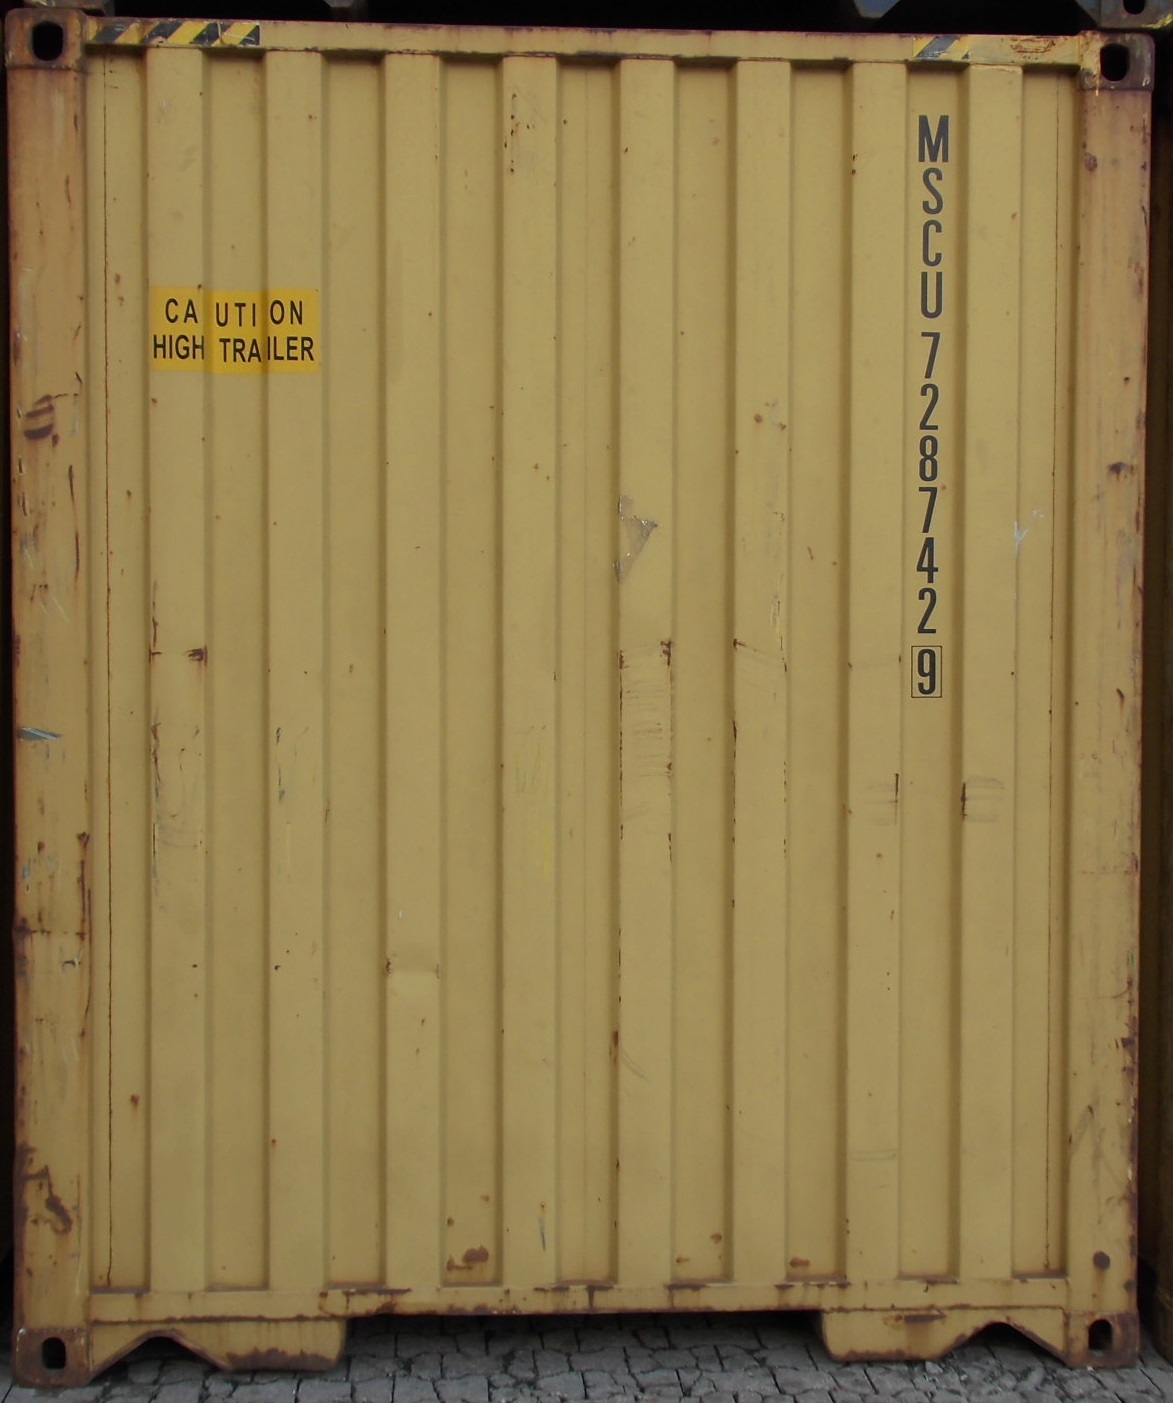container_no_door: (31, 24, 1153, 1377)
